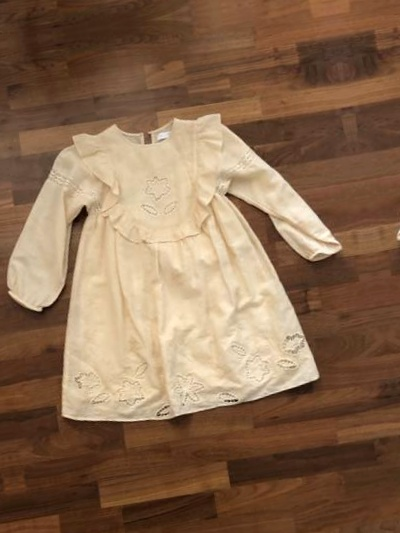Dress: (0, 77, 364, 475), (376, 8, 400, 406), (0, 137, 3, 533)
